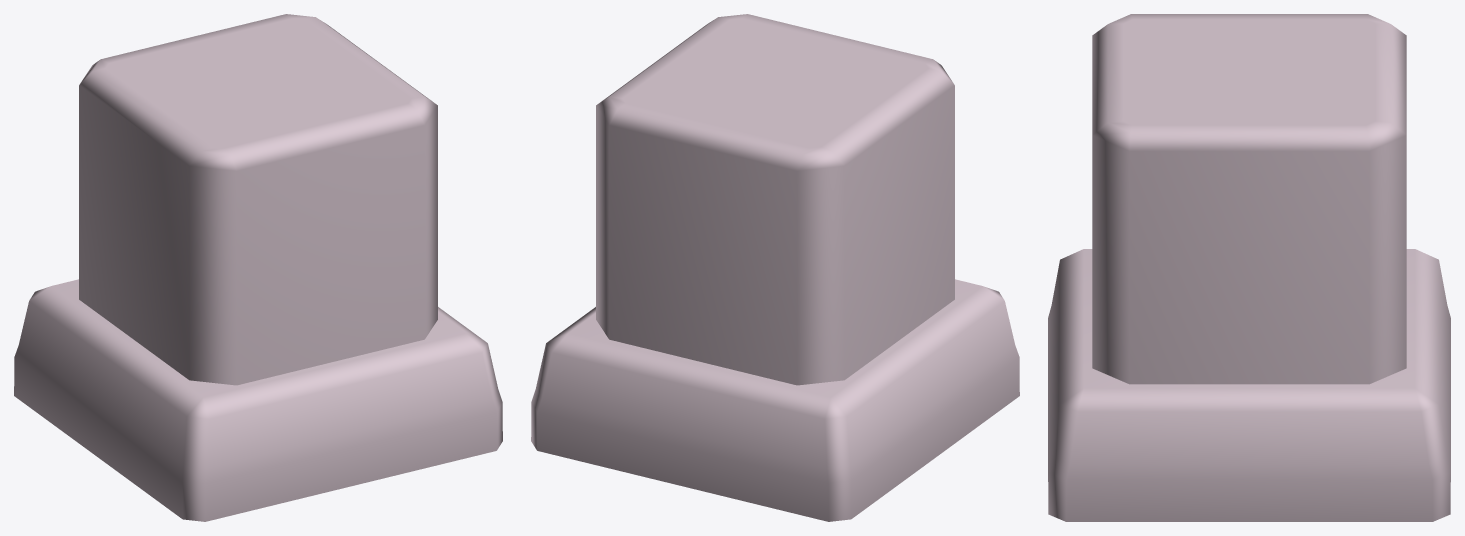
The model's file is mod_sc_roma_001_column_006.FBX.
3 views of the same model, side by side, from view 1: azimuth 30°, elevation 25°; view 2: azimuth 150°, elevation 25°; view 3: azimuth 270°, elevation 25° (orthographic). The views are drawn at different scales.
Visible parts, largest first — view 1: mod_sc_roma_001_column_006; view 2: mod_sc_roma_001_column_006; view 3: mod_sc_roma_001_column_006.
Part boxes in pixels (left/top/right/bottom): mod_sc_roma_001_column_006: left=14, top=14, right=502, bottom=521; mod_sc_roma_001_column_006: left=531, top=14, right=1019, bottom=521; mod_sc_roma_001_column_006: left=1048, top=14, right=1450, bottom=521.
Size of what is drawn, in the model's own units: 200 by 200 by 200.
Materials: 1 (1 with a texture image).
